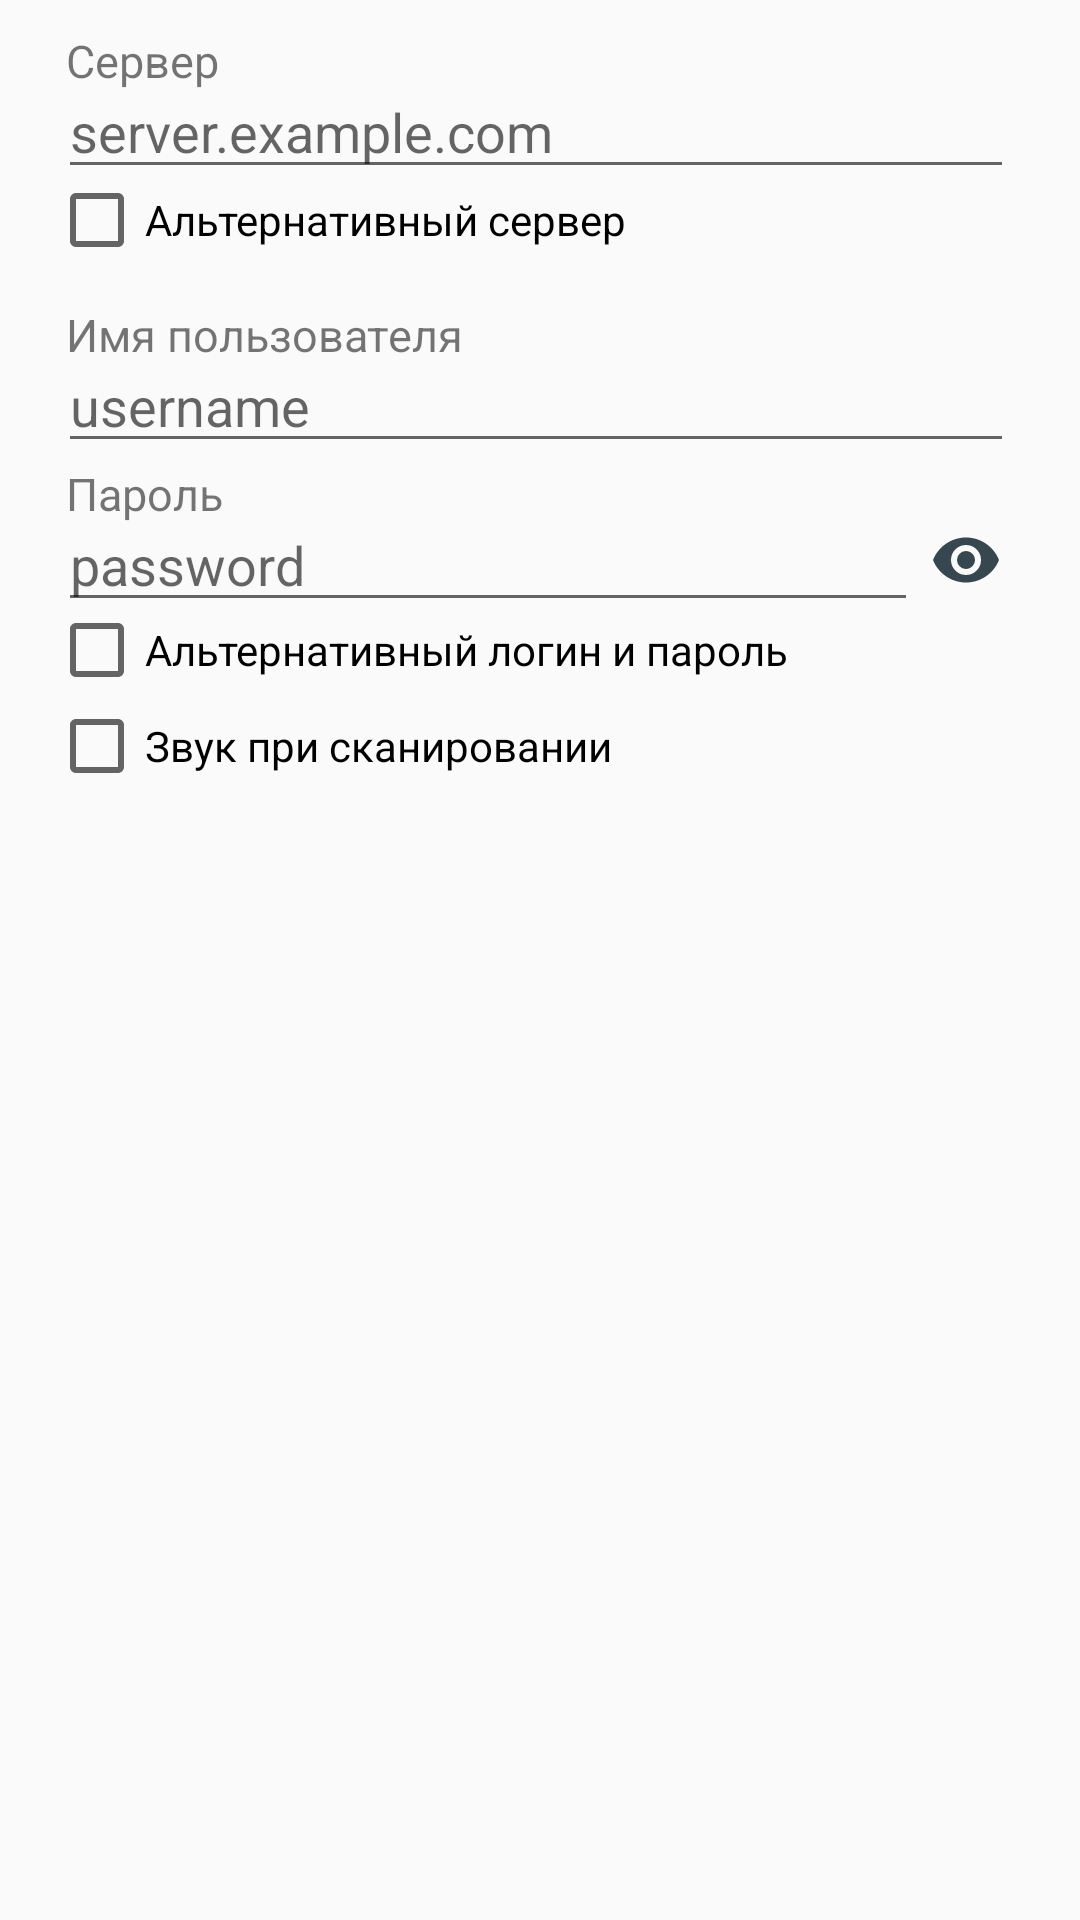

Named icons in this screenshot (1080px×1920px) and their bounding boxes, {"left": x1, "top": y1, "right": x2, "bottom": y2}:
eye on: {"left": 933, "top": 537, "right": 999, "bottom": 583}
